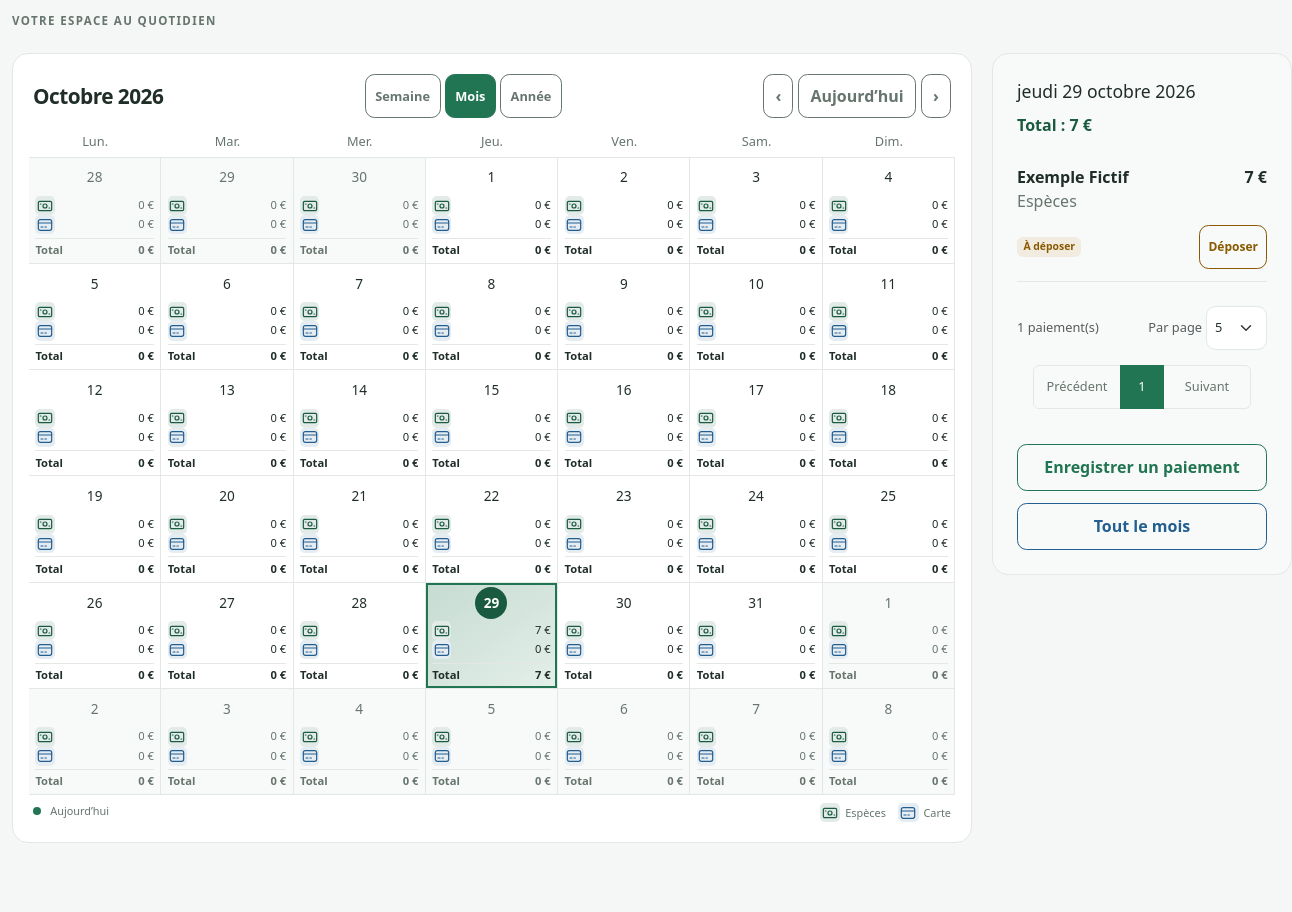
Test case: dépôt depuis le panneau : statut rafraîchi, montant et jour conservés
This screenshot has width=1292, height=912.
Expected: the element named "Calendrier " is shown, [29,157,955,794]
Expected: the text "À déposer" is shown, [1017,237,1081,257]
Click the button "Déposer": click(1233, 247) [1200,225,1267,269]
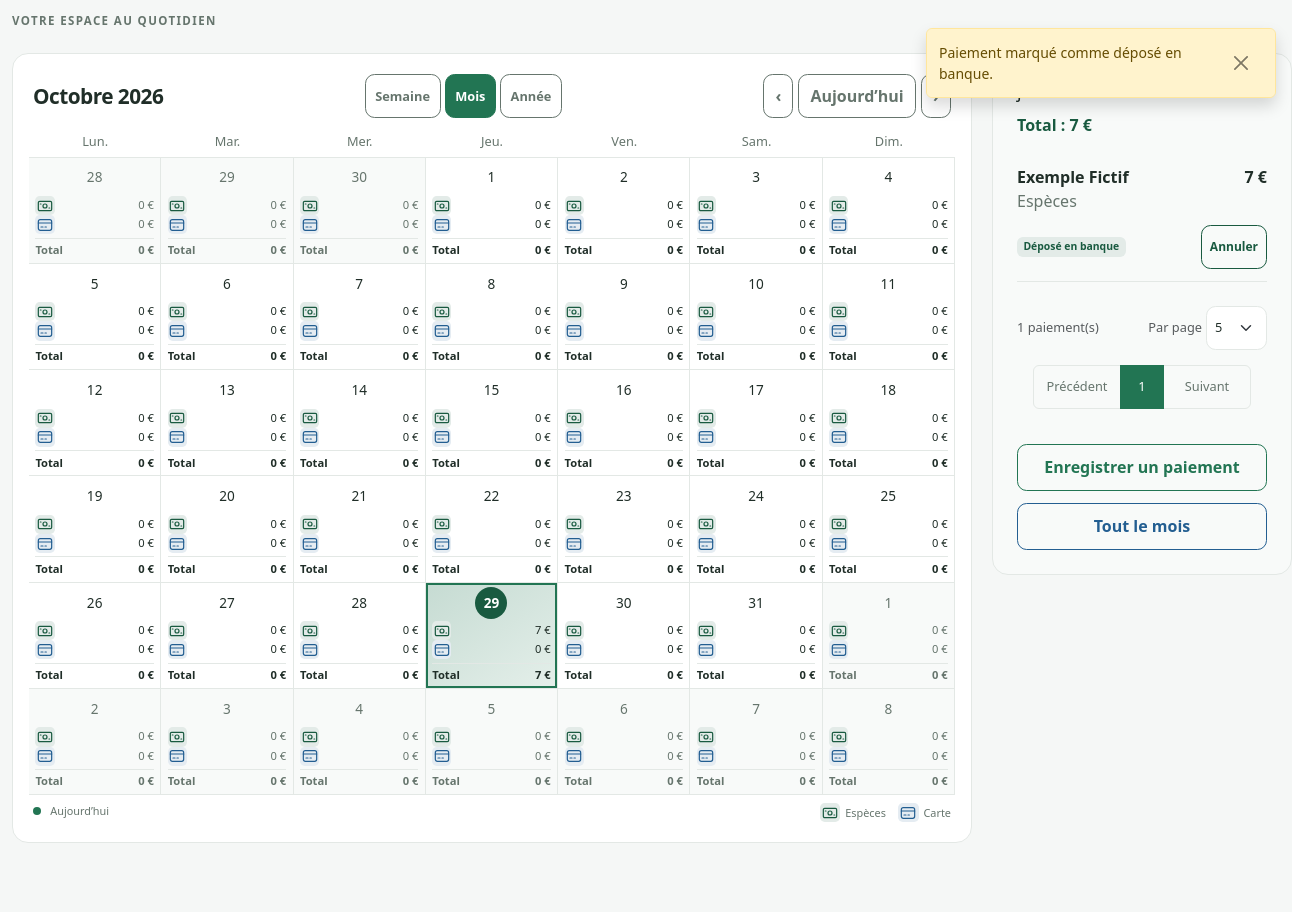
Expected: the heading "jeudi 29 octobre 2026" is shown, [1017,79,1196,103]
Expected: the text "Déposé en banque" is shown, [1017,237,1126,257]
Click the button with aria-label "Annuler le dépôt": click(1234, 247) [1201,225,1267,269]
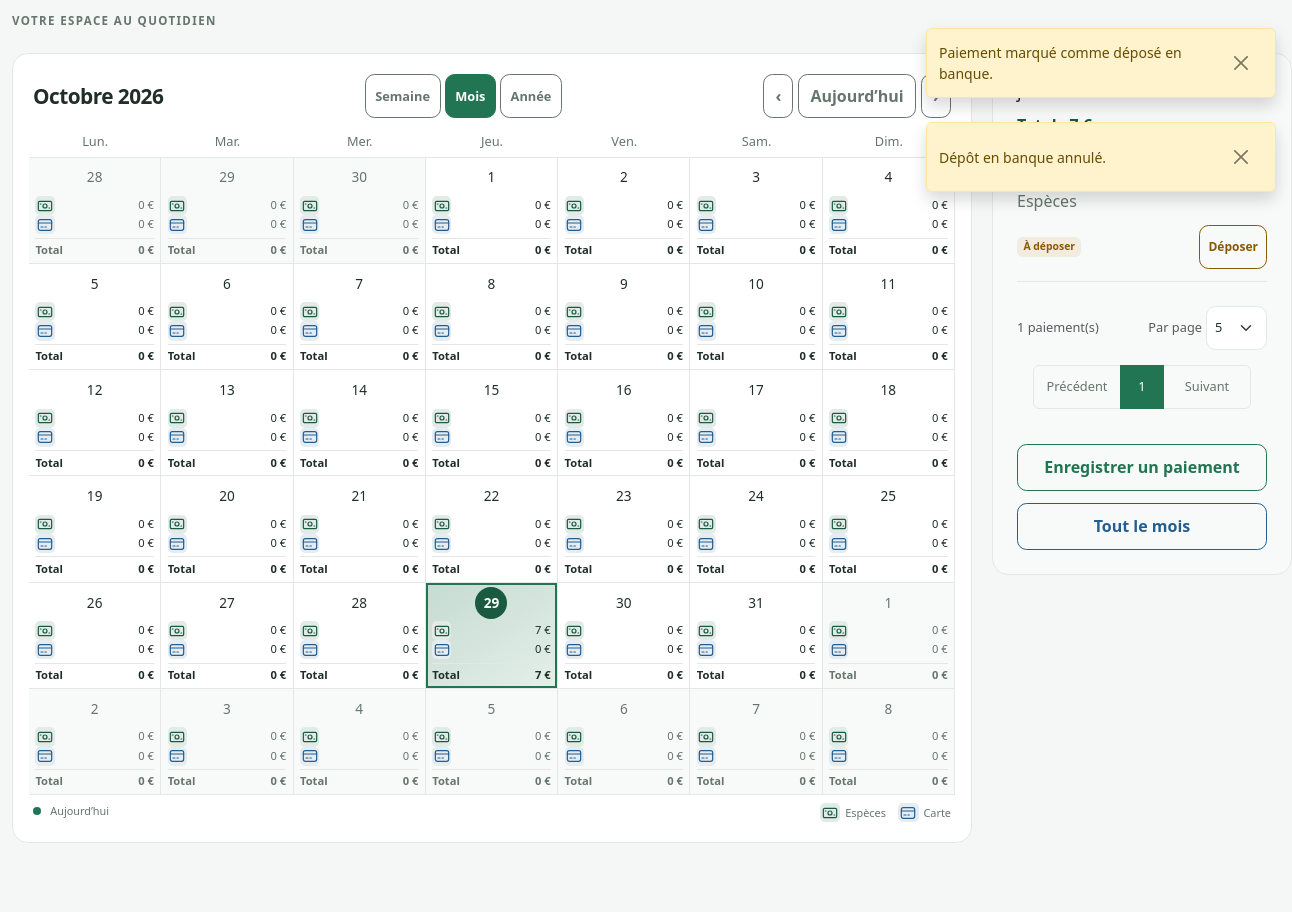
Expected: the text "À déposer" is shown, [1017,237,1081,257]
